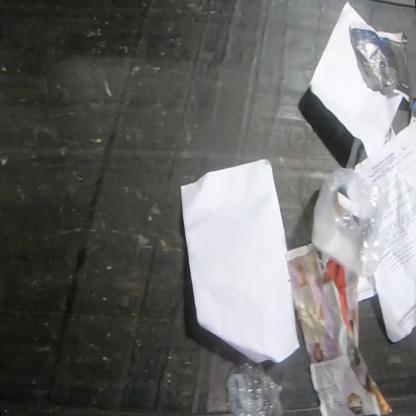rigid_plastic: (224, 355, 284, 416)
soft_plastic: (309, 165, 384, 280)
